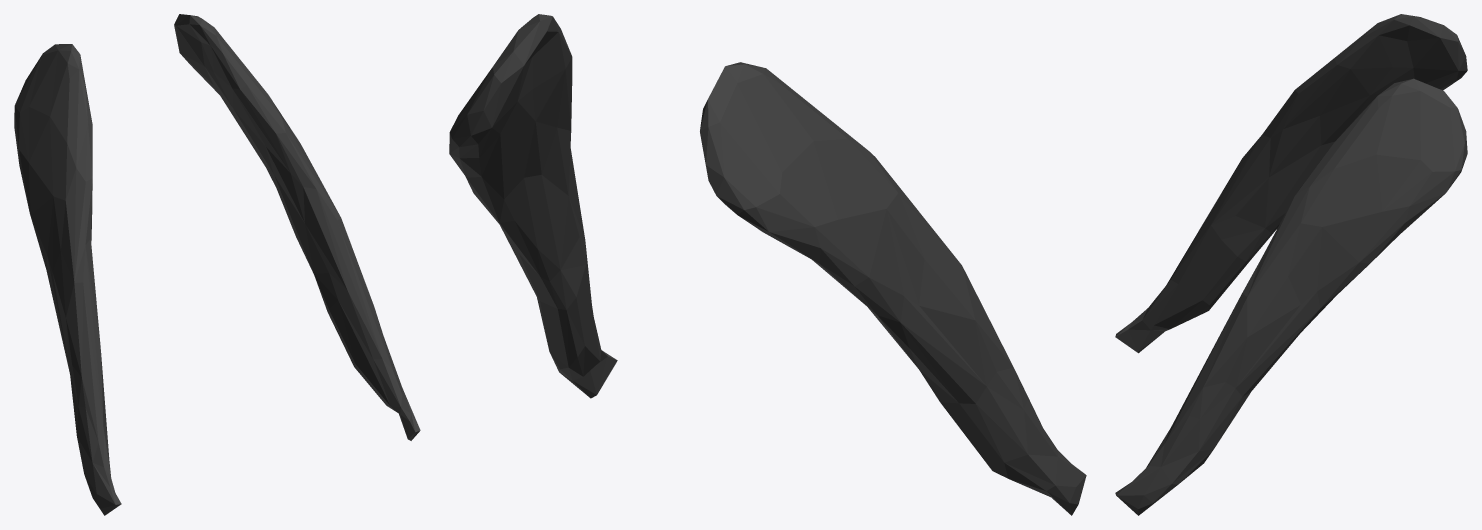
The model's file is m_infraspinatus.glb.
The picture shows the model from 3 angles, left to right: view 1: azimuth 30°, elevation 25°; view 2: azimuth 150°, elevation 25°; view 3: azimuth 270°, elevation 25°; orthographic projection. The views are drawn at different scales.
Visible parts, largest first — view 1: m_infraspinatus; view 2: m_infraspinatus; view 3: m_infraspinatus.
Part boxes in pixels (x1,y1,x2,y2): m_infraspinatus: (14,14,420,515); m_infraspinatus: (449,14,1086,515); m_infraspinatus: (1115,14,1467,515).
Bounding box in the file's own units: 0.00639 × 0.00686 × 0.00566.
Materials: 1 (1 with a texture image).
